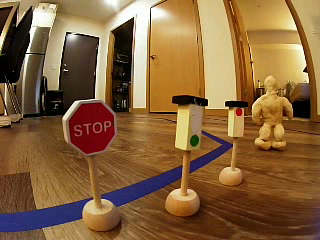Red traffic light: (221, 93, 251, 144)
green traffic light: (168, 82, 210, 159)
person: (256, 73, 294, 153)
stop: (59, 94, 123, 158)
